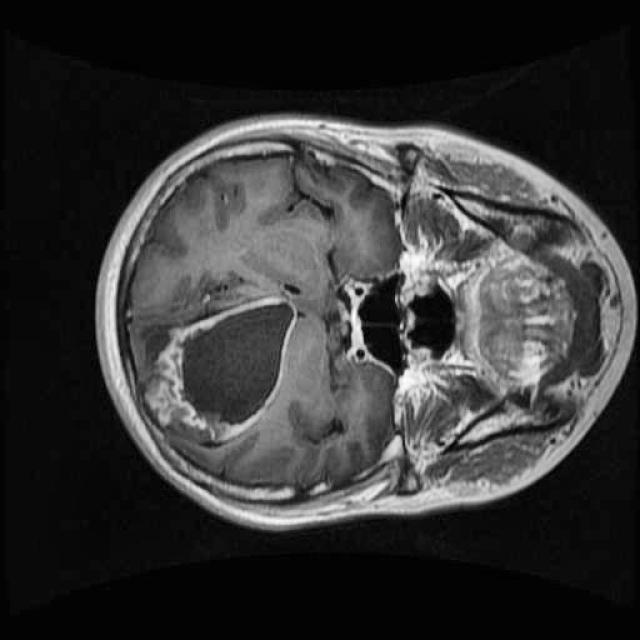Tumor: (127, 287, 307, 452)
